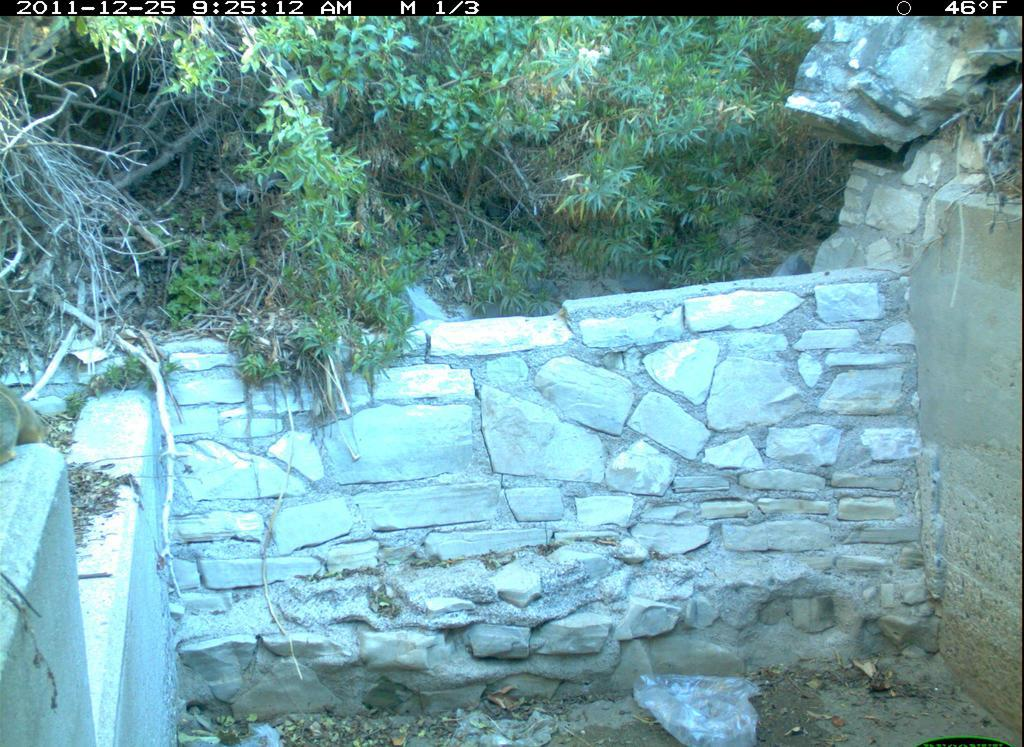squirrel: (2, 381, 65, 477)
